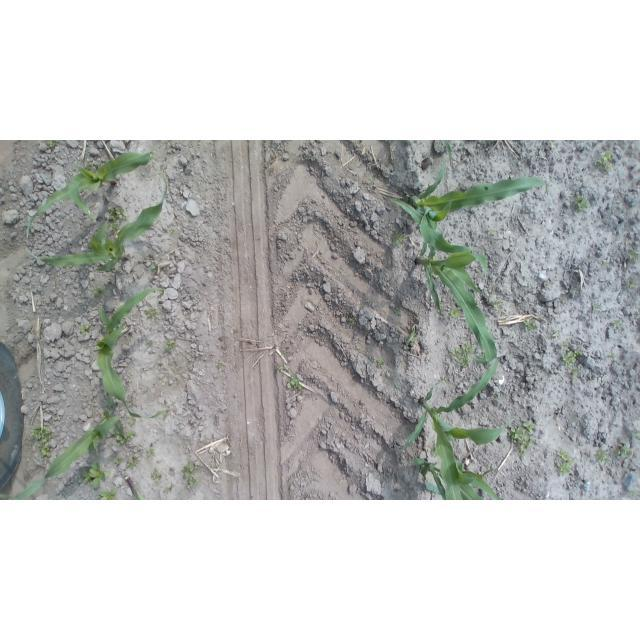Maize: (390, 198, 499, 365), (404, 358, 515, 500), (25, 168, 168, 272), (403, 158, 548, 254), (26, 152, 157, 241), (1, 414, 123, 500), (99, 286, 172, 418), (412, 457, 500, 500), (124, 476, 145, 500), (444, 140, 452, 156)
Weeds: (506, 420, 535, 461), (80, 461, 110, 490), (447, 341, 475, 371), (561, 340, 584, 368), (181, 458, 200, 489), (555, 448, 575, 477), (112, 424, 138, 445), (30, 425, 53, 444), (597, 150, 614, 173), (614, 441, 631, 460), (575, 192, 590, 212), (286, 374, 302, 391), (109, 207, 127, 222), (594, 448, 610, 464), (97, 488, 118, 500), (149, 468, 163, 485), (37, 443, 52, 458), (392, 231, 406, 247), (407, 323, 417, 345), (439, 374, 452, 390), (144, 307, 160, 319), (523, 319, 537, 332), (164, 339, 177, 353), (628, 427, 640, 441), (567, 366, 579, 379), (448, 306, 460, 319), (84, 160, 100, 169), (486, 228, 498, 240), (162, 483, 174, 495), (614, 318, 625, 331), (628, 278, 639, 290), (109, 221, 119, 234), (491, 300, 501, 311), (431, 443, 438, 458), (392, 307, 402, 317), (126, 458, 135, 469), (131, 453, 139, 465), (630, 250, 638, 262), (128, 417, 137, 427), (610, 353, 619, 363), (93, 288, 103, 297), (146, 447, 154, 458), (80, 325, 88, 336), (114, 458, 123, 467), (387, 375, 395, 385), (274, 363, 282, 373), (369, 175, 376, 186), (348, 316, 356, 325), (561, 293, 568, 303), (593, 303, 601, 311), (553, 331, 560, 340), (152, 263, 159, 272), (629, 490, 637, 497), (49, 141, 56, 148), (601, 261, 608, 268), (377, 358, 384, 365), (169, 227, 175, 233), (147, 340, 153, 346), (198, 355, 203, 361), (635, 316, 640, 321), (219, 362, 222, 368), (281, 351, 285, 355)
